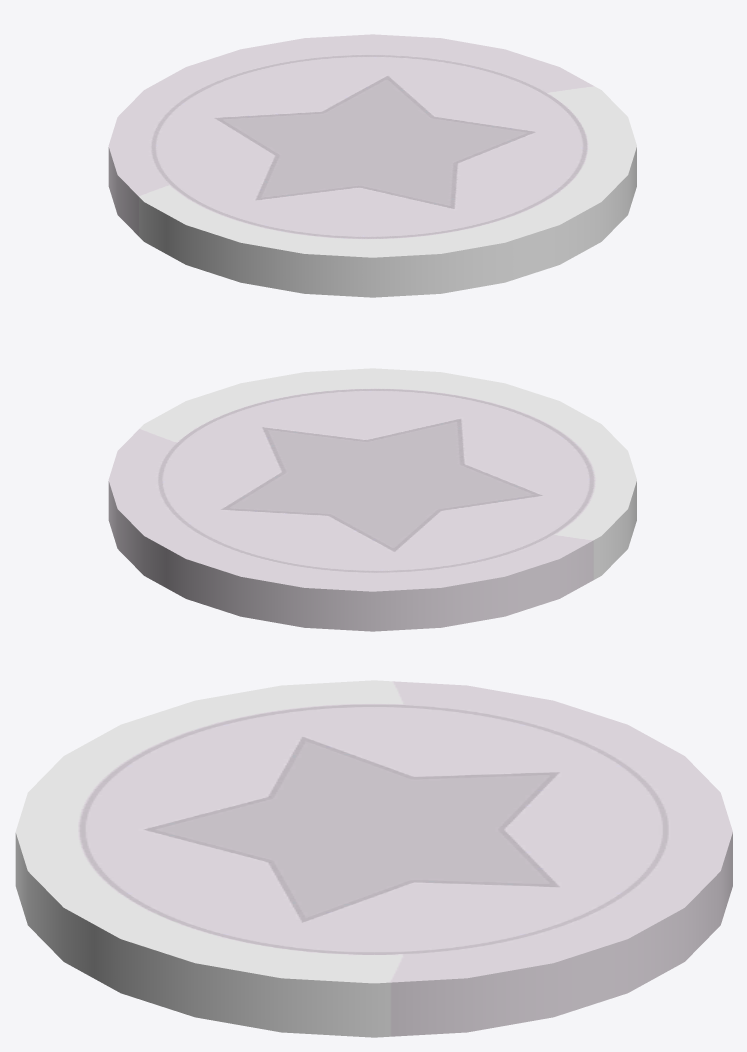
Rendered from PveBazi.glb.
3 views of the same model, one above another, from view 1: azimuth 30°, elevation 25°; view 2: azimuth 150°, elevation 25°; view 3: azimuth 270°, elevation 25° (orthographic). The views are drawn at different scales.
Visible parts, largest first — view 1: PveBazi; view 2: PveBazi; view 3: PveBazi.
Part boxes in pixels (x1,y1,x2,y2): PveBazi: (108,34,636,297); PveBazi: (108,368,636,631); PveBazi: (15,680,732,1037).
Size of the model in its own units: 1.2 by 0.1 by 1.2.
2 materials, 1 textured.
